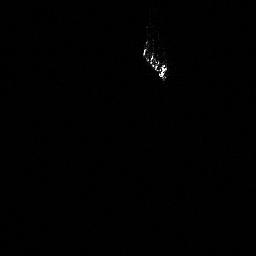ship: (139, 45, 171, 83)
